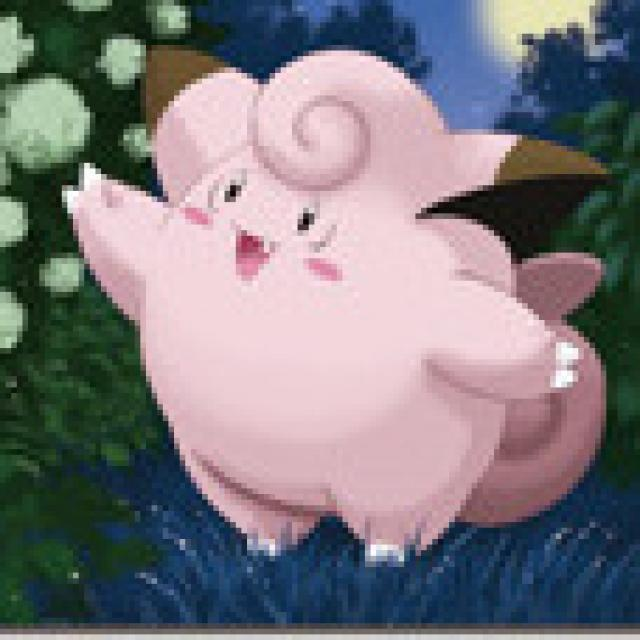Clefairy: (64, 43, 610, 580)
